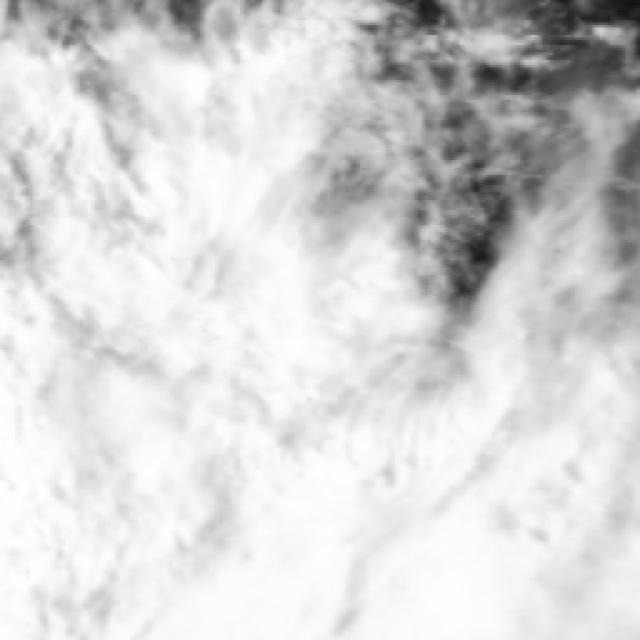CB: (150, 455, 549, 640)
